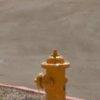Hydrant: (30, 37, 72, 100)
